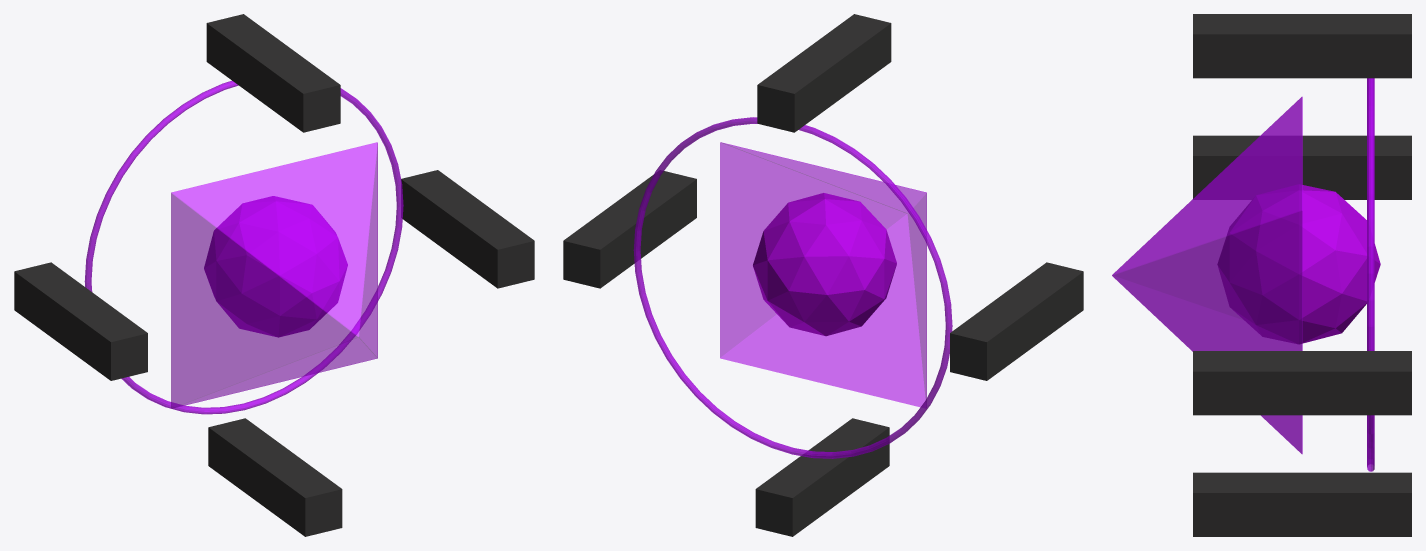
The model's file is drone.fbx.
The picture shows the model from 3 angles, left to right: view 1: azimuth 30°, elevation 25°; view 2: azimuth 150°, elevation 25°; view 3: azimuth 270°, elevation 25°; orthographic projection. The views are drawn at different scales.
Parts seen in each view (by area): view 1: Cube, Cube.002, Icosphere, Torus; view 2: Cube.002, Cube, Icosphere, Torus; view 3: Cube.002, Cube, Icosphere, Torus.
Part boxes in pixels (<box>): Cube: <box>171,142,377,408</box>; Cube.002: <box>14,14,534,536</box>; Icosphere: <box>204,196,347,337</box>; Torus: <box>84,80,403,414</box>; Cube.002: <box>563,14,1083,536</box>; Cube: <box>720,142,926,406</box>; Icosphere: <box>753,193,896,336</box>; Torus: <box>633,117,952,458</box>; Cube.002: <box>1193,14,1411,536</box>; Cube: <box>1112,96,1302,454</box>; Icosphere: <box>1217,184,1380,344</box>; Torus: <box>1367,78,1374,471</box>.
Size of the model in its own units: 845 by 845 by 458.
